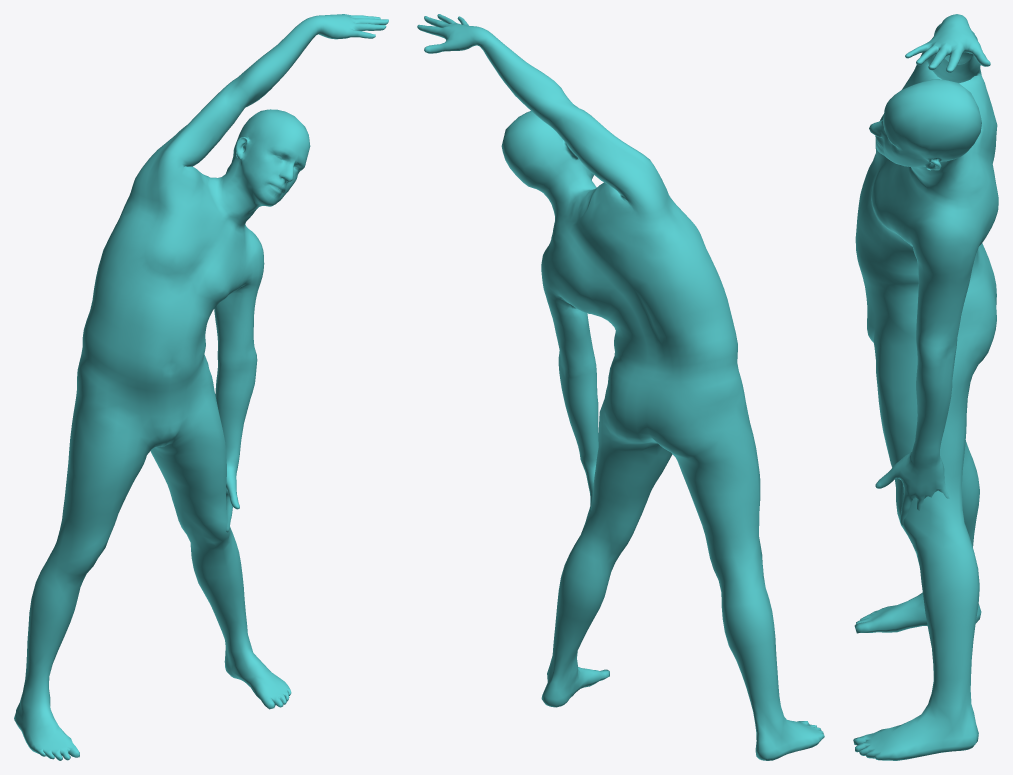
The model's file is angle_pose_male.glb.
3 views of the same model, side by side, from view 1: azimuth 30°, elevation 25°; view 2: azimuth 150°, elevation 25°; view 3: azimuth 270°, elevation 25° (orthographic). The views are drawn at different scales.
Parts seen in each view (by area): view 1: angle_pose Reference; view 2: angle_pose Reference; view 3: angle_pose Reference.
Part boxes in pixels (x1=…): angle_pose Reference: x1=14, y1=14, x2=388, y2=760; angle_pose Reference: x1=417, y1=14, x2=824, y2=760; angle_pose Reference: x1=853, y1=14, x2=998, y2=760.
Size of the model in its own units: 1.1 by 1.82 by 0.3071.
